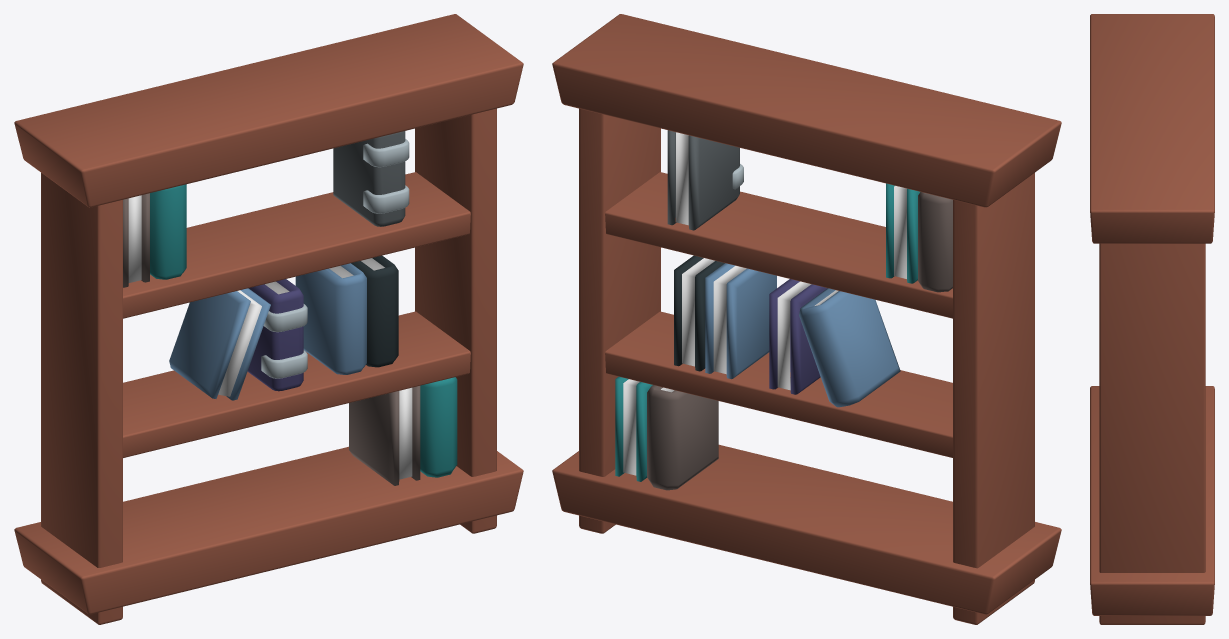
Rendered from bookcase1.gltf.
The picture shows the model from 3 angles, left to right: view 1: azimuth 30°, elevation 25°; view 2: azimuth 150°, elevation 25°; view 3: azimuth 270°, elevation 25°; orthographic projection. The views are drawn at different scales.
Visible parts, largest first — view 1: bookcaseWideFilled; view 2: bookcaseWideFilled; view 3: bookcaseWideFilled.
Boxes of the visible parts, left/top/right/bottom form: bookcaseWideFilled: left=14, top=14, right=523, bottom=624; bookcaseWideFilled: left=552, top=14, right=1061, bottom=624; bookcaseWideFilled: left=1090, top=14, right=1214, bottom=624.
Bounding box in the file's own units: 1.99 × 2 × 0.5329.
